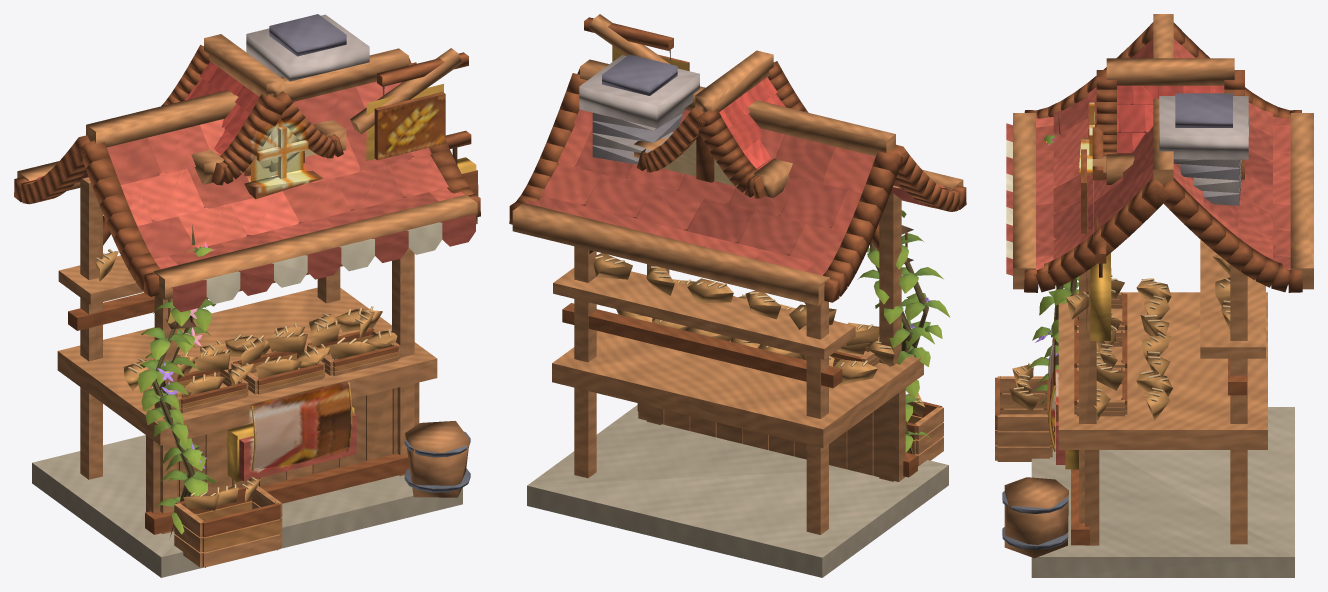
File: stall_bakery.glb
The picture shows the model from 3 angles, left to right: view 1: azimuth 30°, elevation 25°; view 2: azimuth 150°, elevation 25°; view 3: azimuth 270°, elevation 25°; orthographic projection. The views are drawn at different scales.
Parts seen in each view (by area): view 1: Body; view 2: Body; view 3: Body.
Part boxes in pixels (bbox=[...]): Body: bbox=[14, 14, 480, 577]; Body: bbox=[509, 14, 966, 577]; Body: bbox=[995, 14, 1313, 577].
Size of the model in its own units: 2.9 by 3.34 by 2.19.
1 material, 1 textured.
